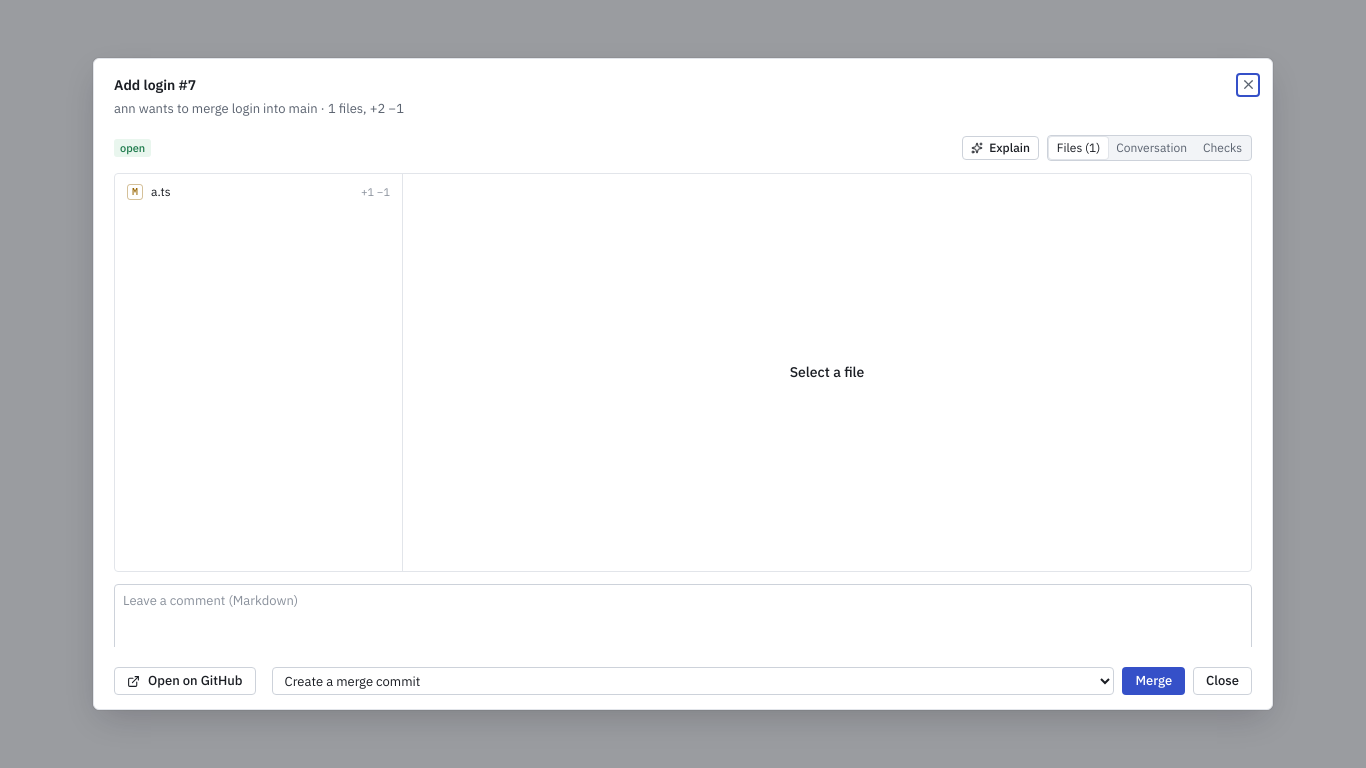
Test: PullReviewDialog › asks the AI to explain the whole pull request
This screenshot has width=1366, height=768.
Step 1. Click the button "Explain" → (1000, 148), box [962,136,1039,160]
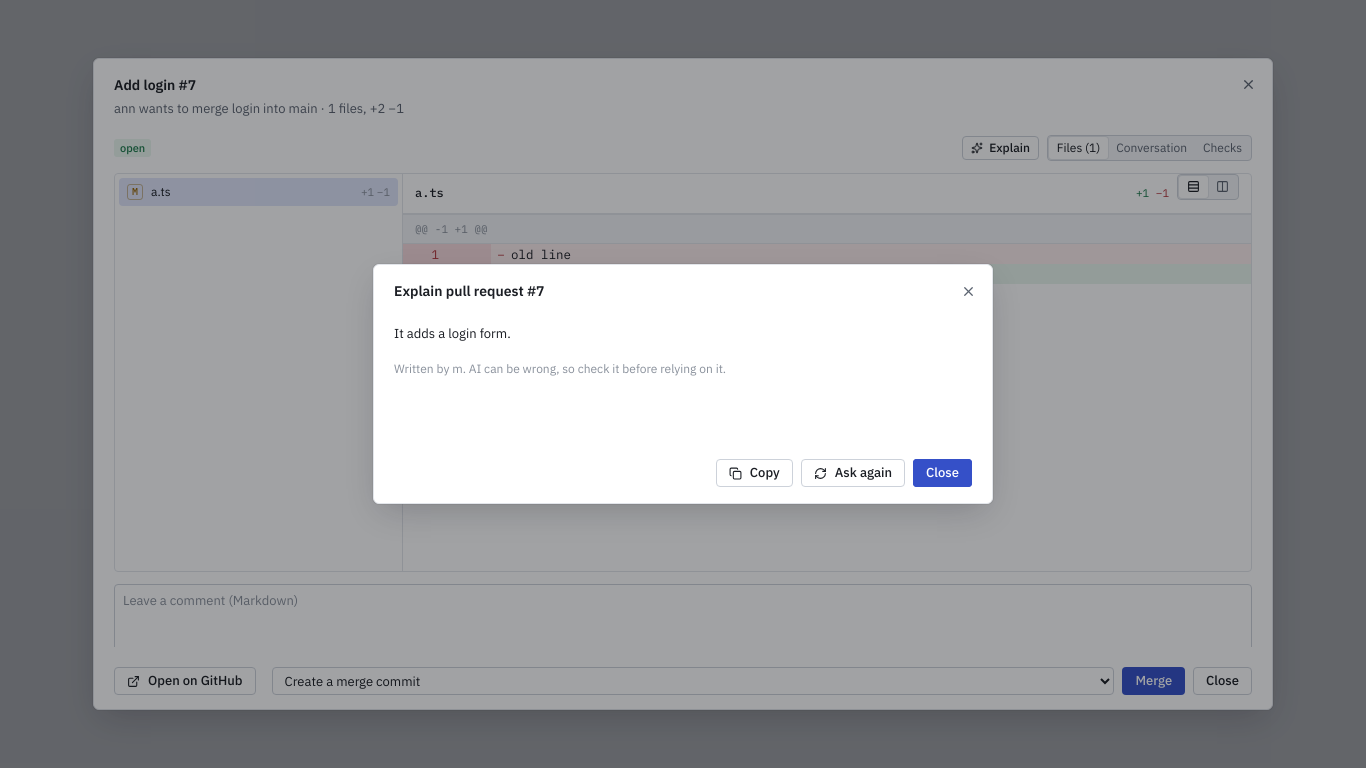
Check: the text "It adds a login form." is shown, box [394,325,511,342]
